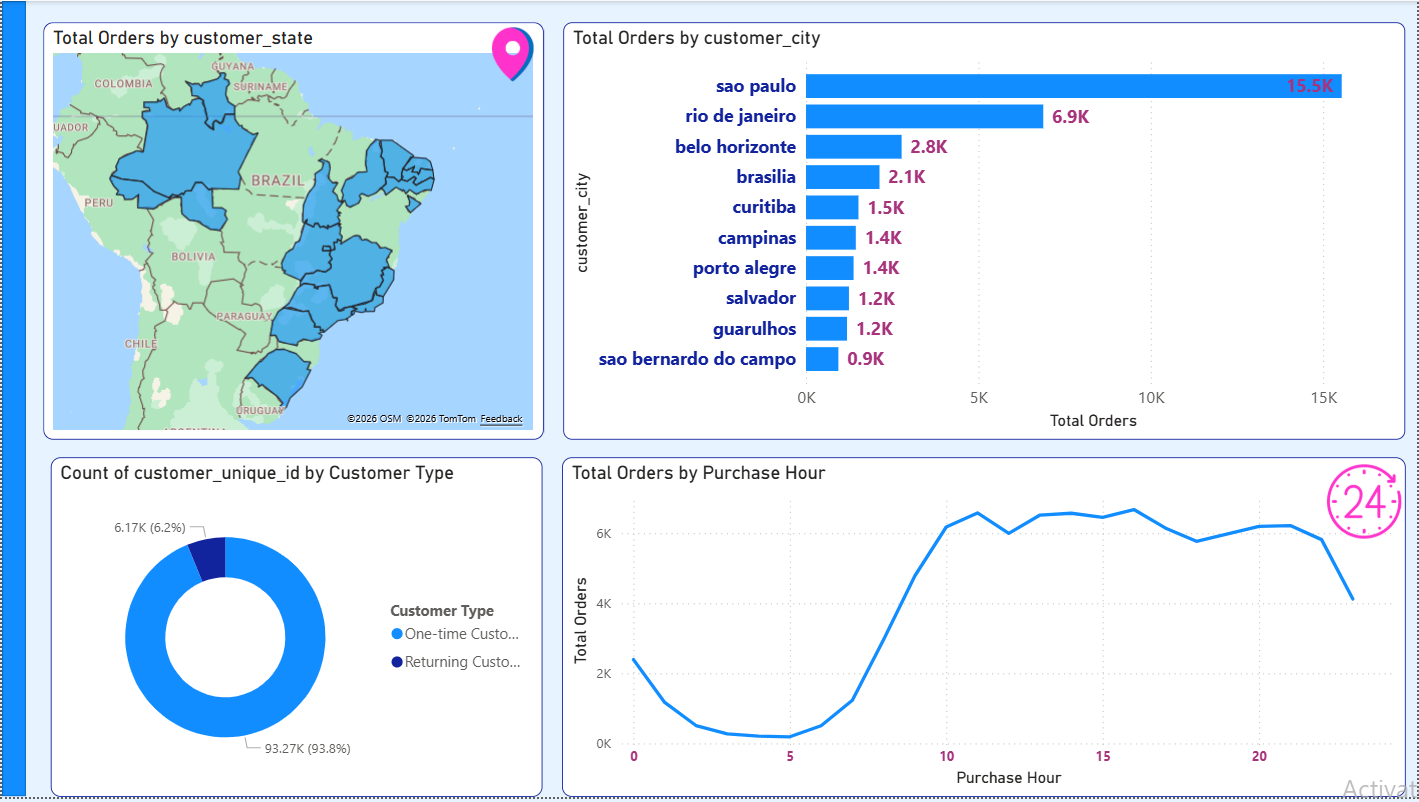

The dashboard page shown, as its layout file describes it:
{"tool":"powerbi","page":{"name":"Customer","canvas":[1280,720],"ordinal":1},"visuals":[{"type":"barChart","fields":{"Category":["olist_customers_dataset.customer_city"],"Y":["_Measures.Total Orders"]},"box":[507.8,19,761.6,377.8],"z":0},{"type":"shape","box":[0,0,21.7,719.5],"z":1000},{"type":"donutChart","fields":{"Category":["olist_customers_dataset.Customer Type"],"Y":["CountNonNull(olist_customers_dataset.customer_unique_id)"]},"box":[44.5,412.7,445.2,306.8],"z":2000},{"type":"azureMap","fields":{"Category":["olist_customers_dataset.customer_state","olist_customers_dataset.customer_city"]},"box":[37.3,19,452.4,377.8],"z":3000},{"type":"lineChart","fields":{"Y":["_Measures.Total Orders"],"Category":["olist_orders_dataset.Purchase Hour"]},"box":[506.6,412.7,762.9,306.8],"z":4000},{"type":"image","box":[442.8,9.6,37.3,75.8],"z":5000},{"type":"image","box":[1198.4,412.7,67.4,79.4],"z":6000}]}

Visuals, with their boxes in screenshot pixels (x1, y1, x2, y2), scaled from the page's 1280x720 canvas onto the 1419x802 screenshot:
barChart - olist_customers_dataset.customer_city x _Measures.Total Orders: [x1=563, y1=21, x2=1407, y2=442]
shape: [x1=0, y1=0, x2=24, y2=801]
donutChart - olist_customers_dataset.Customer Type x CountNonNull(olist_customers_dataset.customer_unique_id): [x1=49, y1=460, x2=543, y2=801]
azureMap - olist_customers_dataset.customer_state x olist_customers_dataset.customer_city: [x1=41, y1=21, x2=543, y2=442]
lineChart - _Measures.Total Orders x olist_orders_dataset.Purchase Hour: [x1=562, y1=460, x2=1407, y2=801]
image: [x1=491, y1=11, x2=532, y2=95]
image: [x1=1329, y1=460, x2=1403, y2=548]
